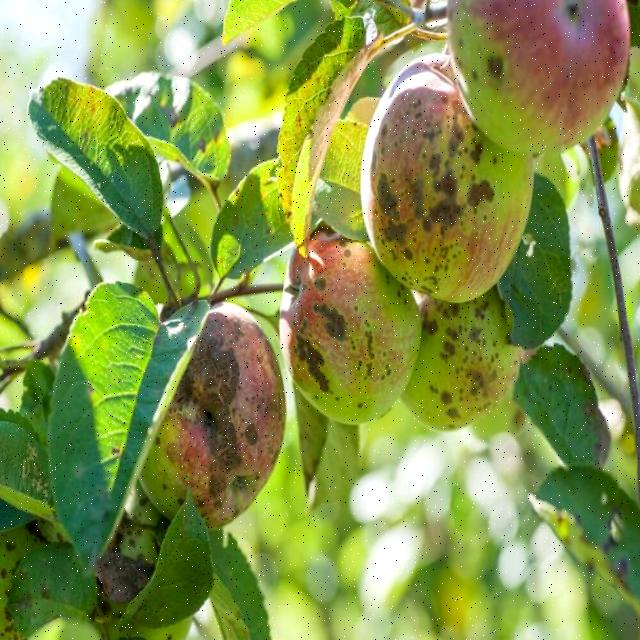SCAB: (366, 7, 613, 331), (120, 274, 282, 577), (279, 236, 409, 494)
